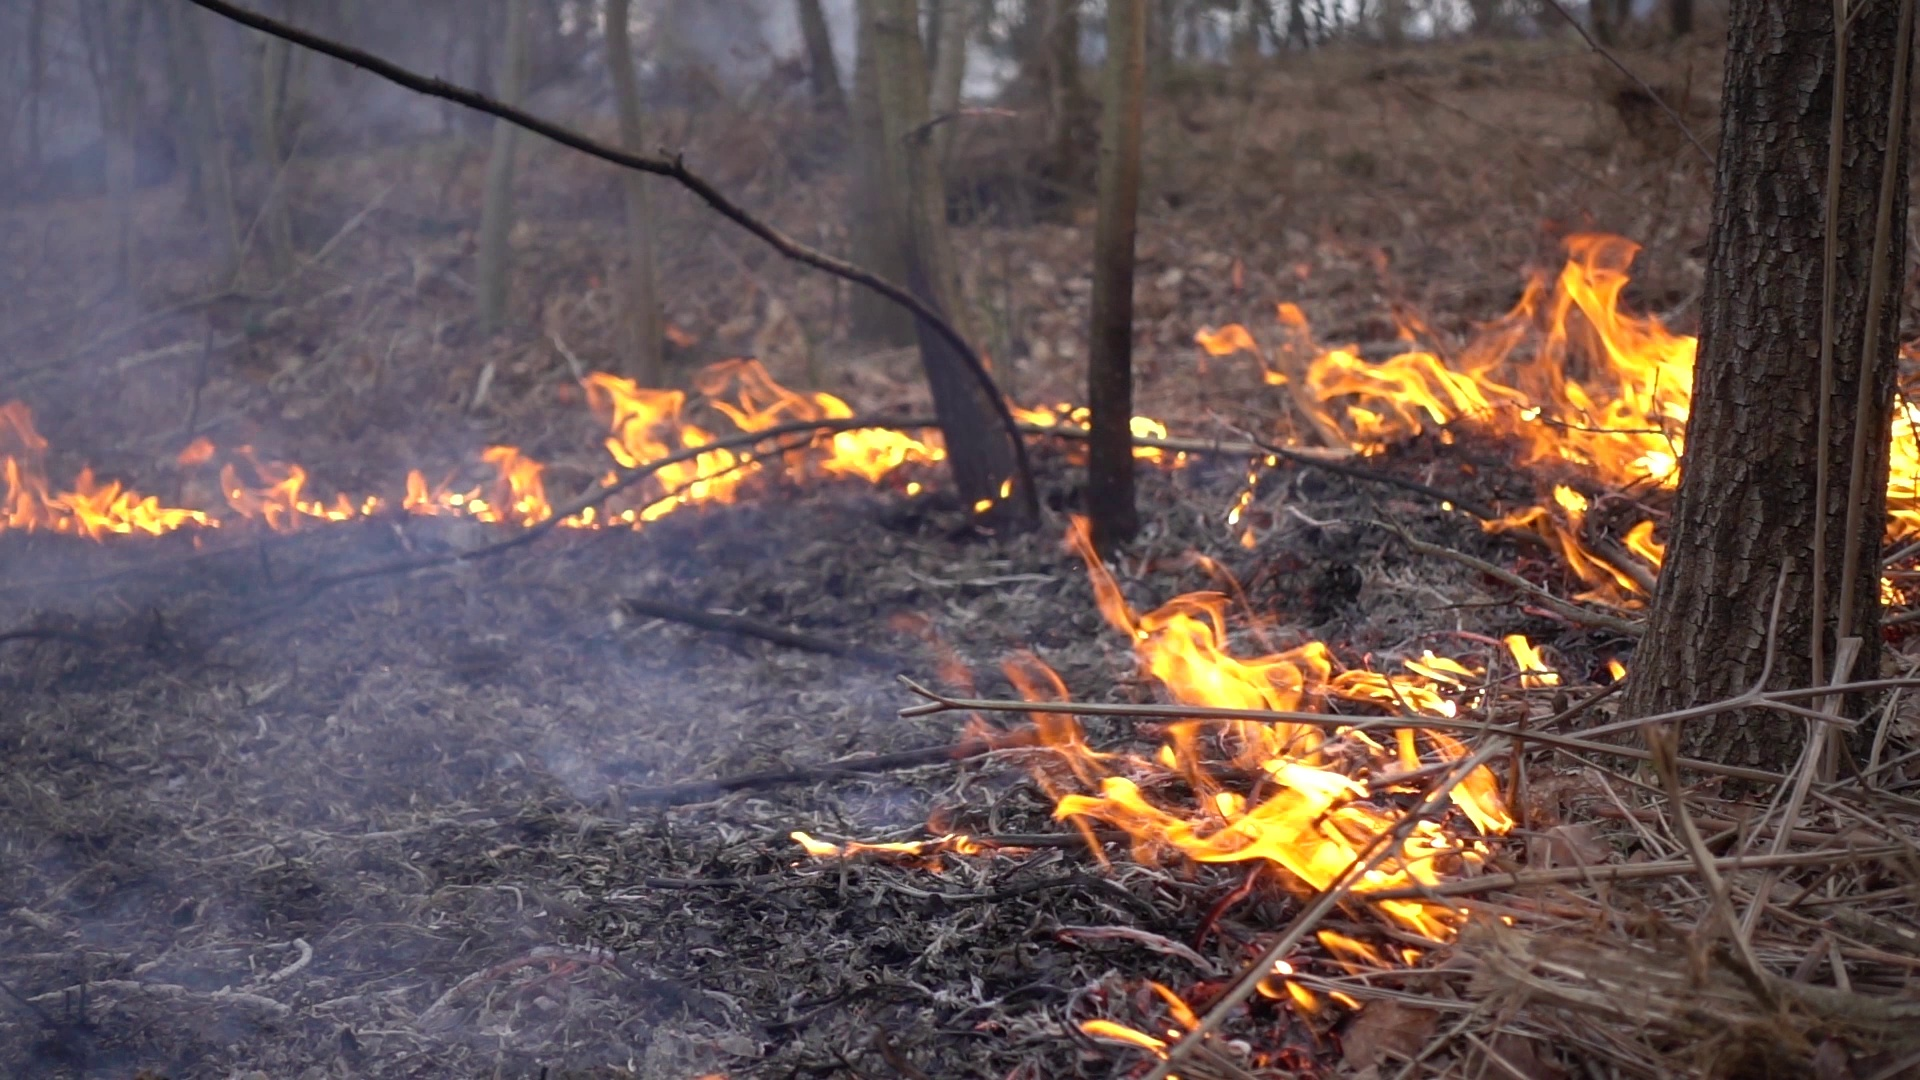fire: (1011, 531, 1542, 939), (1254, 231, 1696, 485), (600, 377, 911, 505), (7, 462, 204, 535), (392, 446, 545, 520), (274, 467, 371, 521), (1894, 404, 1920, 529)
